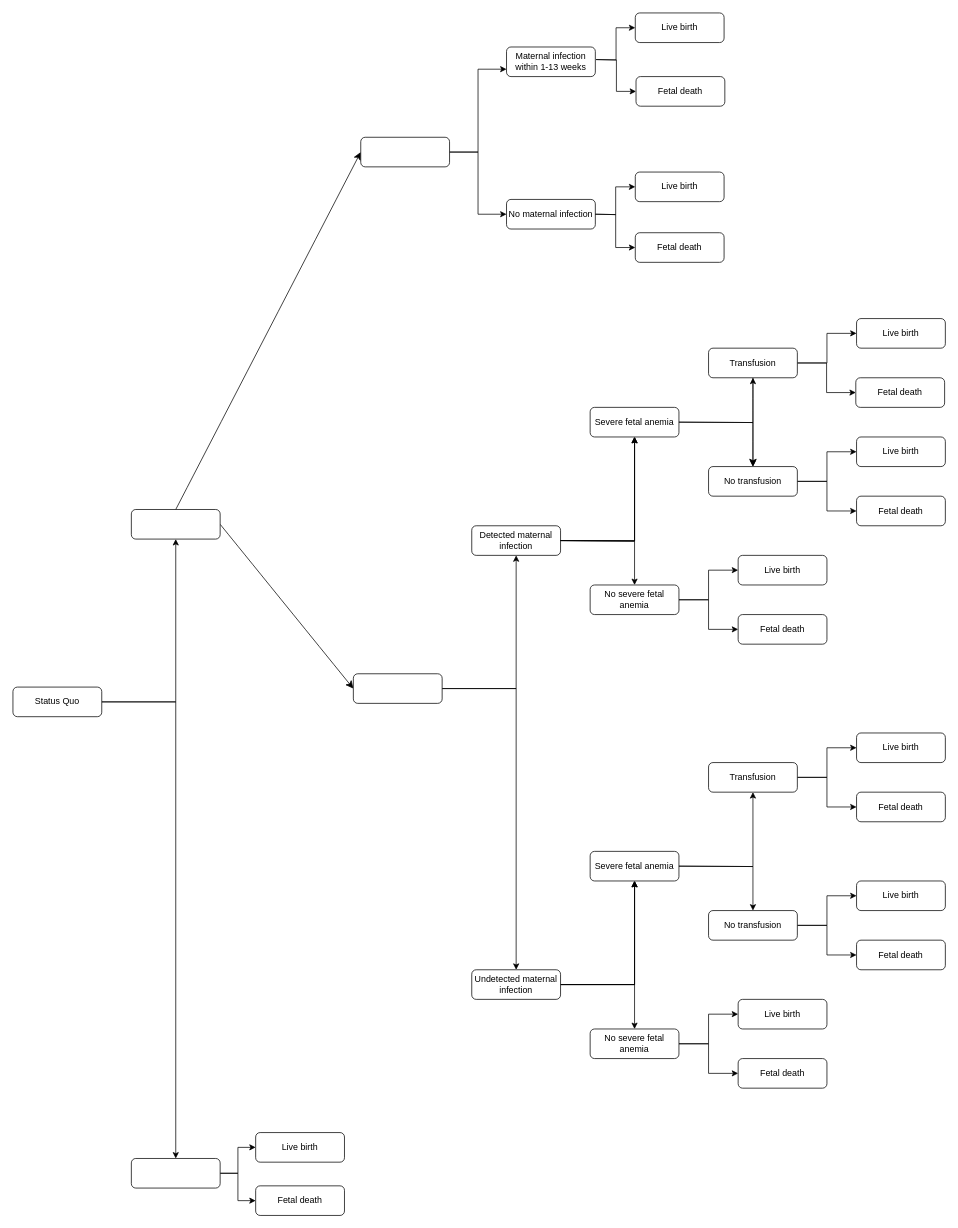
This 958x1228 diagram has some shape labels left out. Here are the shapes that lost their labels. From the top down, the centre of each, then its label:
At (405,152): "Maternal infection not within 14-20 weeks".
At (175,524): "Susceptible".
At (397,688): "Maternal infection within 14-20 weeks".
At (175,1173): "Immune".
